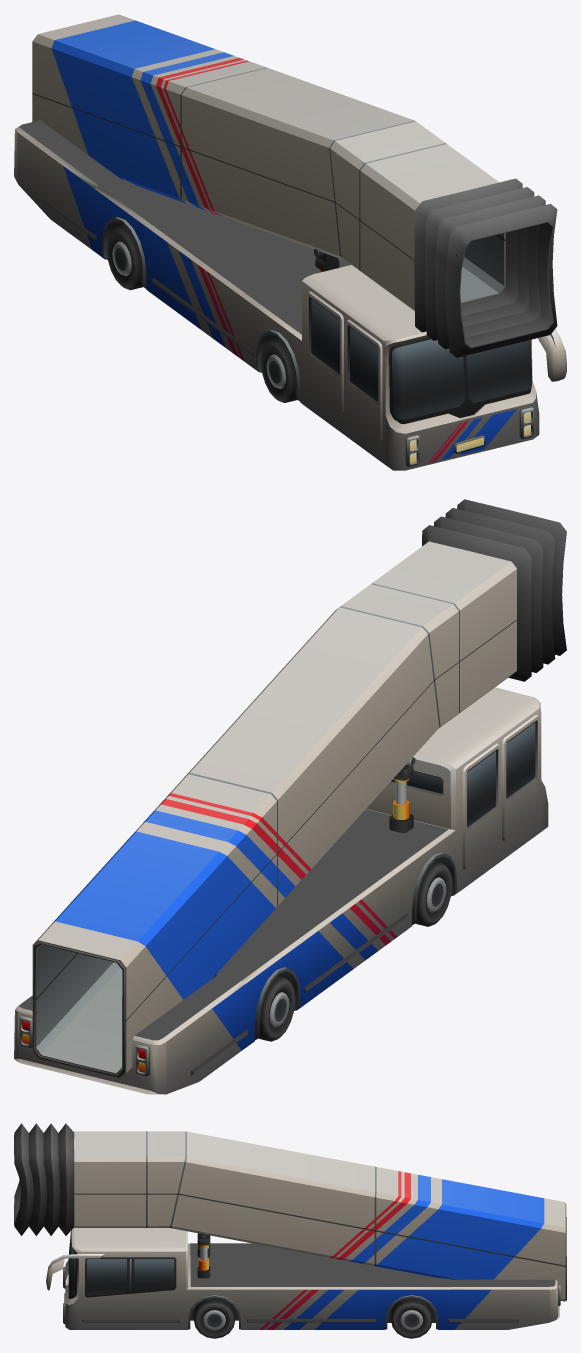
The model's file is Truck_2B.fbx.
3 renders of one model, top to bottom at view 1: azimuth 30°, elevation 25°; view 2: azimuth 150°, elevation 25°; view 3: azimuth 270°, elevation 25°, orthographic. The views are drawn at different scales.
Visible parts, largest first — view 1: Truck_2B, Truck_2B_F.R, Truck_2B_R.R; view 2: Truck_2B, Truck_2B_R.R, Truck_2B_F.R; view 3: Truck_2B, Truck_2B_Wheel_F.L, Truck_2B_R.L.
Boxes of the visible parts, x1,y1,x2,y2 form: Truck_2B: (14,14,566,470); Truck_2B_F.R: (260,338,297,402); Truck_2B_R.R: (106,225,143,290); Truck_2B: (14,499,566,1094); Truck_2B_R.R: (258,975,295,1041); Truck_2B_F.R: (415,860,452,926); Truck_2B: (14,1123,566,1329); Truck_2B_Wheel_F.L: (193,1298,235,1338); Truck_2B_R.L: (391,1298,432,1338).
Size of the model in its own units: 306 by 498 by 1404.
